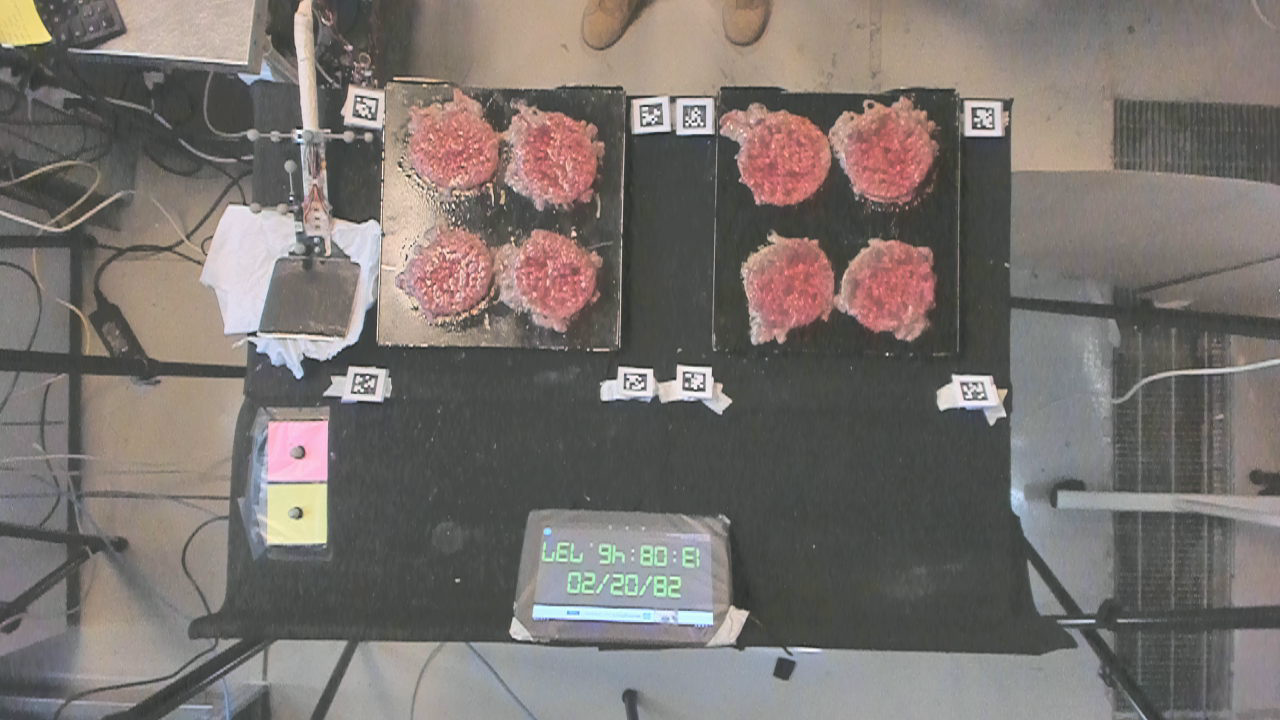hamburger: (741, 237, 832, 334), (844, 235, 933, 334), (739, 109, 831, 202), (845, 108, 934, 202), (405, 105, 497, 190), (403, 231, 491, 319), (514, 112, 597, 204), (516, 227, 594, 319)
marker: (266, 419, 329, 481)
